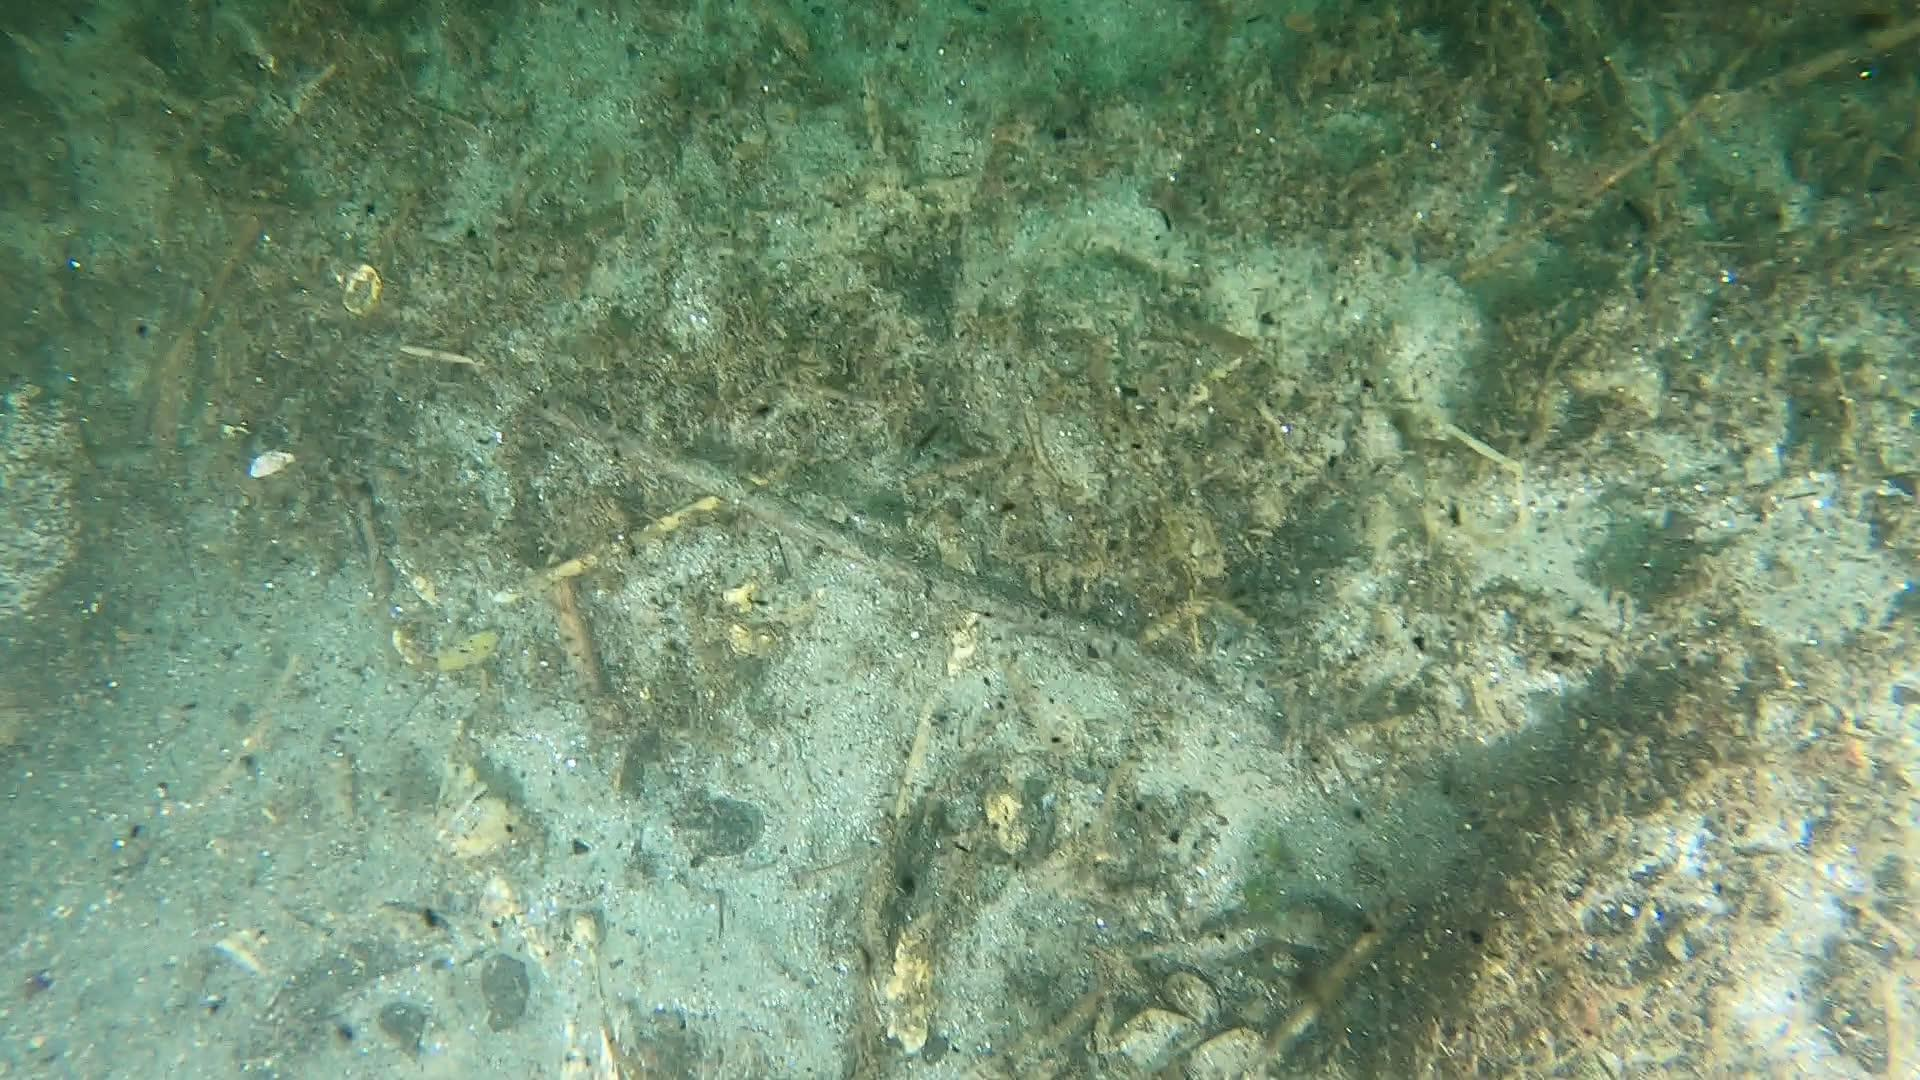wood: (521, 386, 1284, 752)
